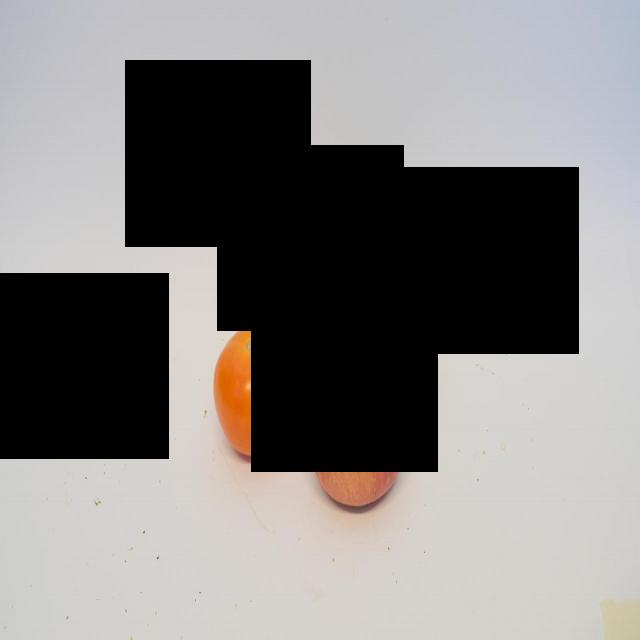apple: (306, 344, 406, 511), (342, 230, 433, 382)
tomato: (213, 320, 291, 459)
